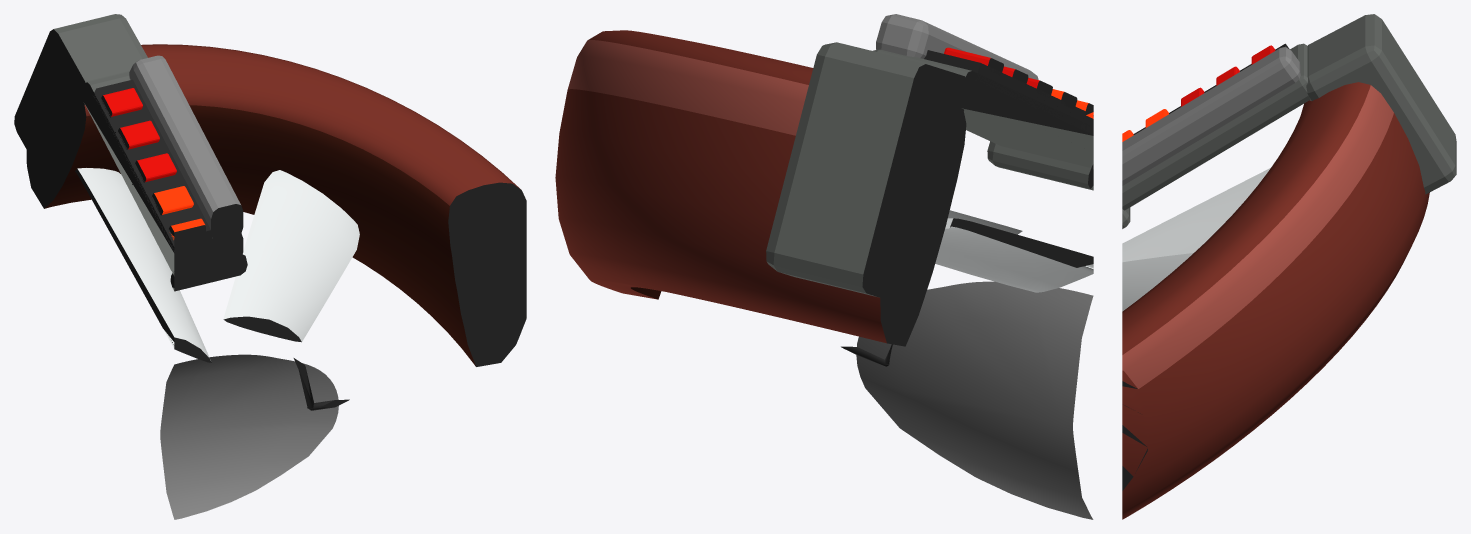
Rendered from zeppelin_5.glb.
3 renders of one model, left to right at view 1: azimuth 30°, elevation 25°; view 2: azimuth 150°, elevation 25°; view 3: azimuth 270°, elevation 25°, orthographic. The views are drawn at different scales.
Visible parts, largest first — view 1: duct.001, cowl.001, blade_1.001, bridge_clamp.001, bridge_rail_r.001, blade_2.001, bridge_base.001, bridge_channel.001, bridge_foot.001, lamp_1.001, lamp_0.001, lamp_2.001 (+2 smaller); view 2: duct.001, bridge_clamp.001, cowl.001, bridge_base.001, blade_2.001, bridge_rail_r.001, bridge_foot.001, bridge_channel.001; view 3: duct.001, bridge_clamp.001, bridge_rail_r.001, bridge_base.001, blade_2.001, blade_1.001.
Part boxes in pixels (left/top/right/bottom): duct.001: left=26, top=44, right=526, bottom=366; cowl.001: left=160, top=354, right=338, bottom=519; blade_1.001: left=223, top=170, right=359, bottom=342; bridge_clamp.001: left=14, top=14, right=147, bottom=184; bridge_rail_r.001: left=129, top=55, right=243, bottom=240; blade_2.001: left=75, top=168, right=211, bottom=362; bridge_base.001: left=81, top=72, right=243, bottom=276; bridge_channel.001: left=93, top=79, right=211, bottom=252; bridge_foot.001: left=170, top=254, right=247, bottom=291; lamp_1.001: left=118, top=120, right=159, bottom=149; lamp_0.001: left=101, top=88, right=142, bottom=117; lamp_2.001: left=135, top=153, right=176, bottom=182; duct.001: left=555, top=30, right=966, bottom=346; bridge_clamp.001: left=766, top=42, right=966, bottom=305; cowl.001: left=856, top=281, right=1093, bottom=519; bridge_base.001: left=873, top=49, right=1093, bottom=168; blade_2.001: left=935, top=218, right=1093, bottom=292; bridge_rail_r.001: left=876, top=14, right=1038, bottom=79; bridge_foot.001: left=987, top=141, right=1093, bottom=190; bridge_channel.001: left=924, top=50, right=1093, bottom=134; duct.001: left=1122, top=82, right=1429, bottom=519; bridge_clamp.001: left=1306, top=14, right=1456, bottom=194; bridge_rail_r.001: left=1122, top=46, right=1300, bottom=185; bridge_base.001: left=1122, top=43, right=1310, bottom=210; blade_2.001: left=1122, top=168, right=1270, bottom=262; blade_1.001: left=1122, top=253, right=1193, bottom=311.
Bounding box in the file's own units: 24 × 26.22 × 18.9.
